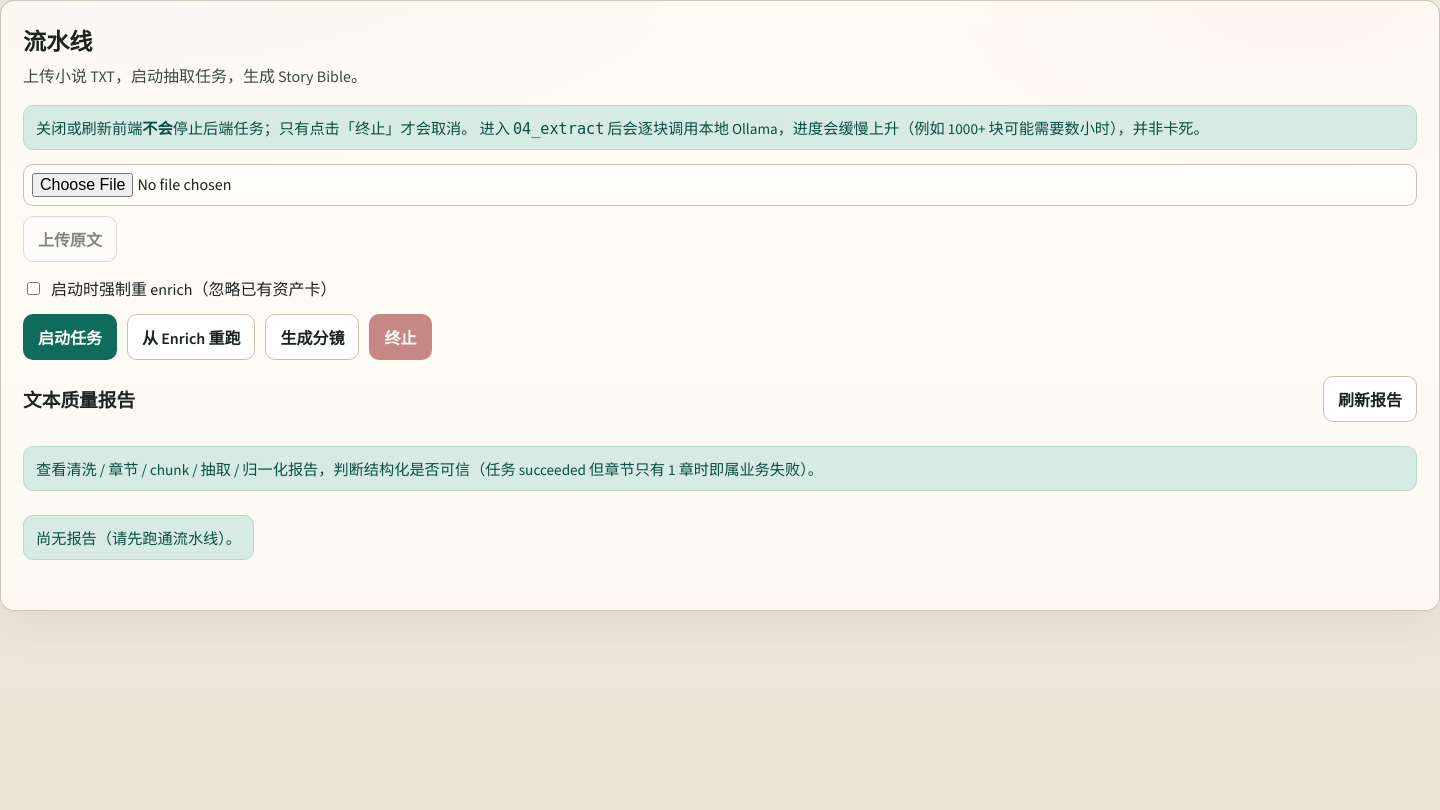
Test: PipelinePage › starts job and shows progress
Click the button "启动任务" at [70, 337], box 23,314 -> 117,360
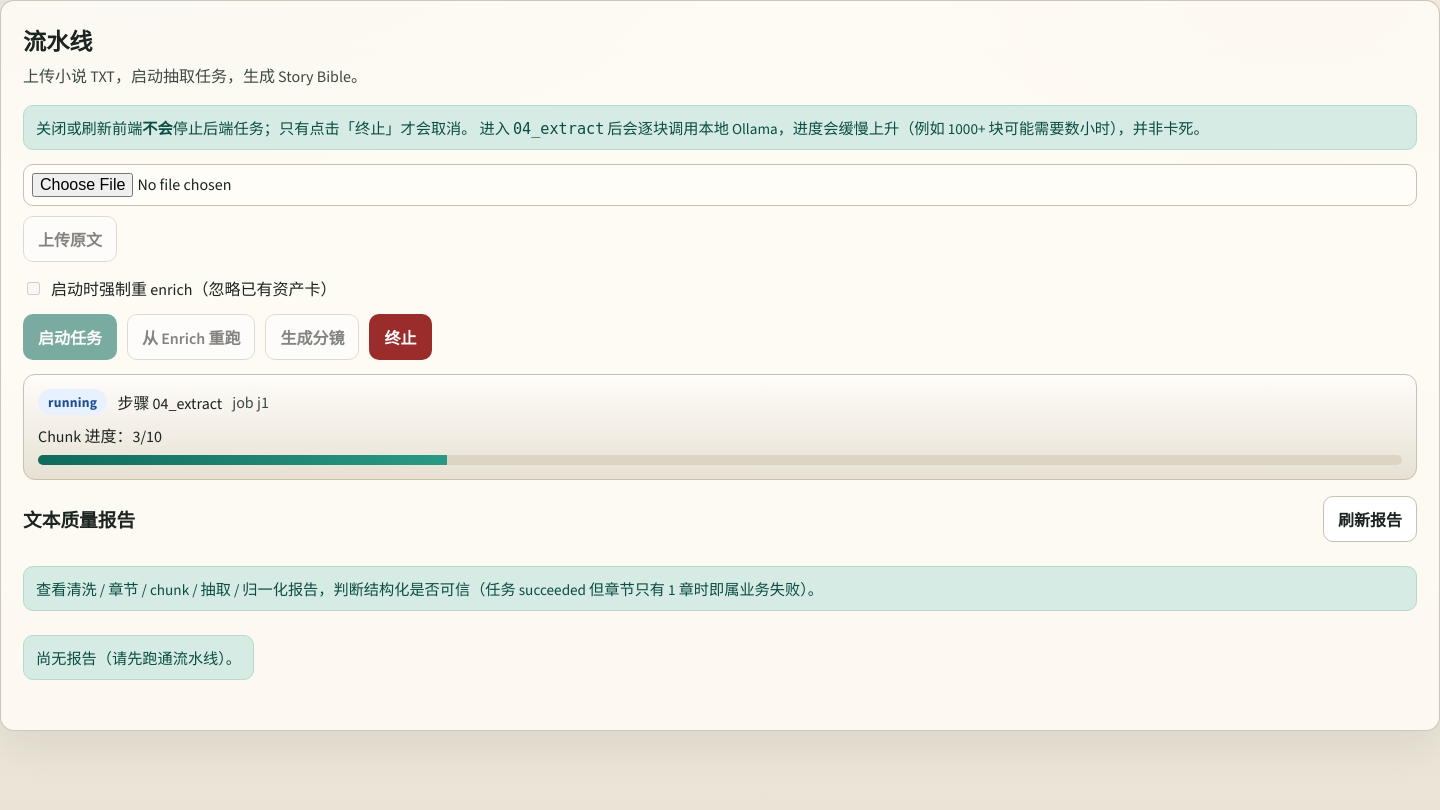
Now the text "步骤 04_extract" is shown, box 117,390 -> 222,414
Now the text "Chunk 进度：3/10" is shown, box 38,426 -> 162,447
